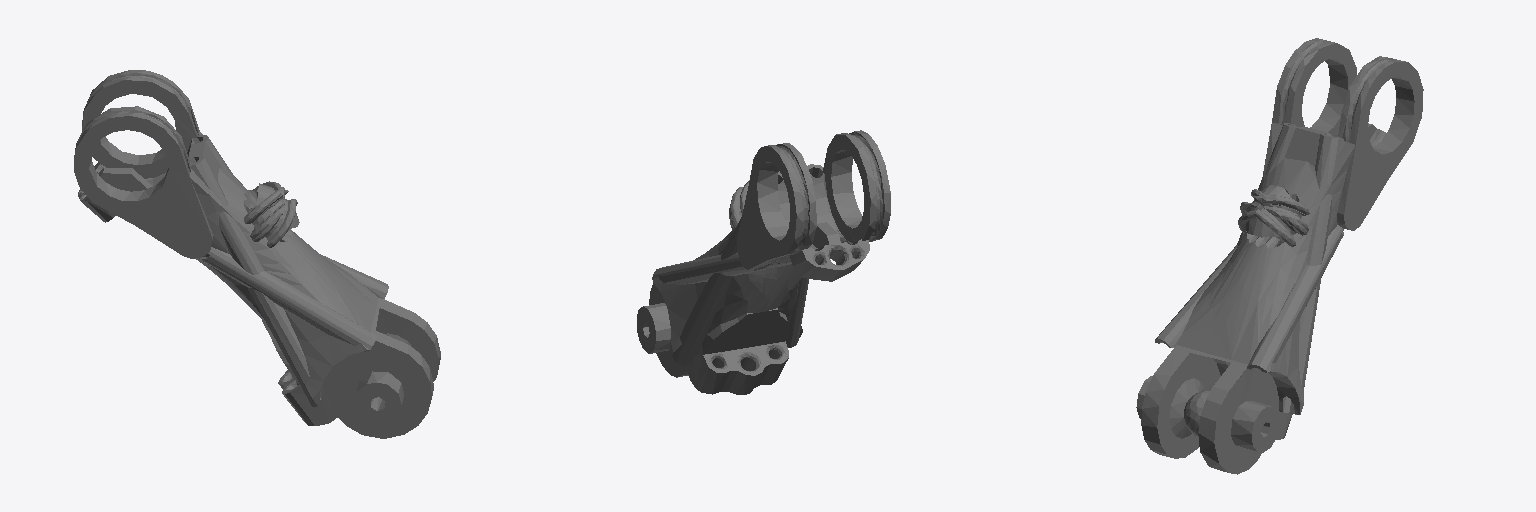
The model's file is hand_finger2-a.obj.
The picture shows the model from 3 angles: view 1: azimuth 30°, elevation 25°; view 2: azimuth 150°, elevation 25°; view 3: azimuth 270°, elevation 25°; orthographic projection.
Parts seen in each view (by area): view 1: finger2-a; view 2: finger2-a; view 3: finger2-a.
Boxes of the visible parts, box(x1,y1,x2,y2) form: finger2-a: box(74, 70, 440, 438); finger2-a: box(637, 130, 890, 394); finger2-a: box(1136, 38, 1423, 474).
Size of the model in its own units: 0.1324 by 0.1337 by 0.108.